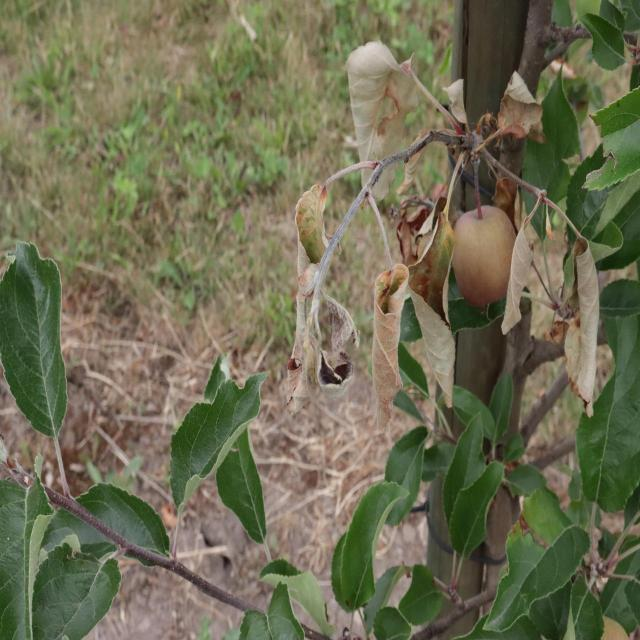-FireBlight-: (338, 41, 450, 426), (521, 186, 601, 395), (286, 186, 356, 402)
